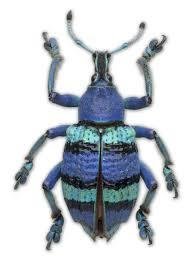insect: (11, 9, 184, 252)
